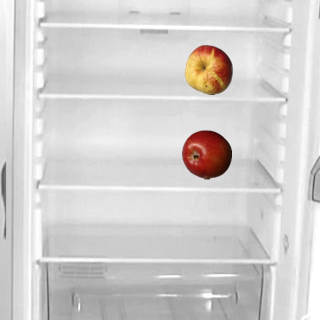Apple Braeburn: (181, 129, 231, 179)
Apple Red Yellow 1: (183, 44, 233, 94)
